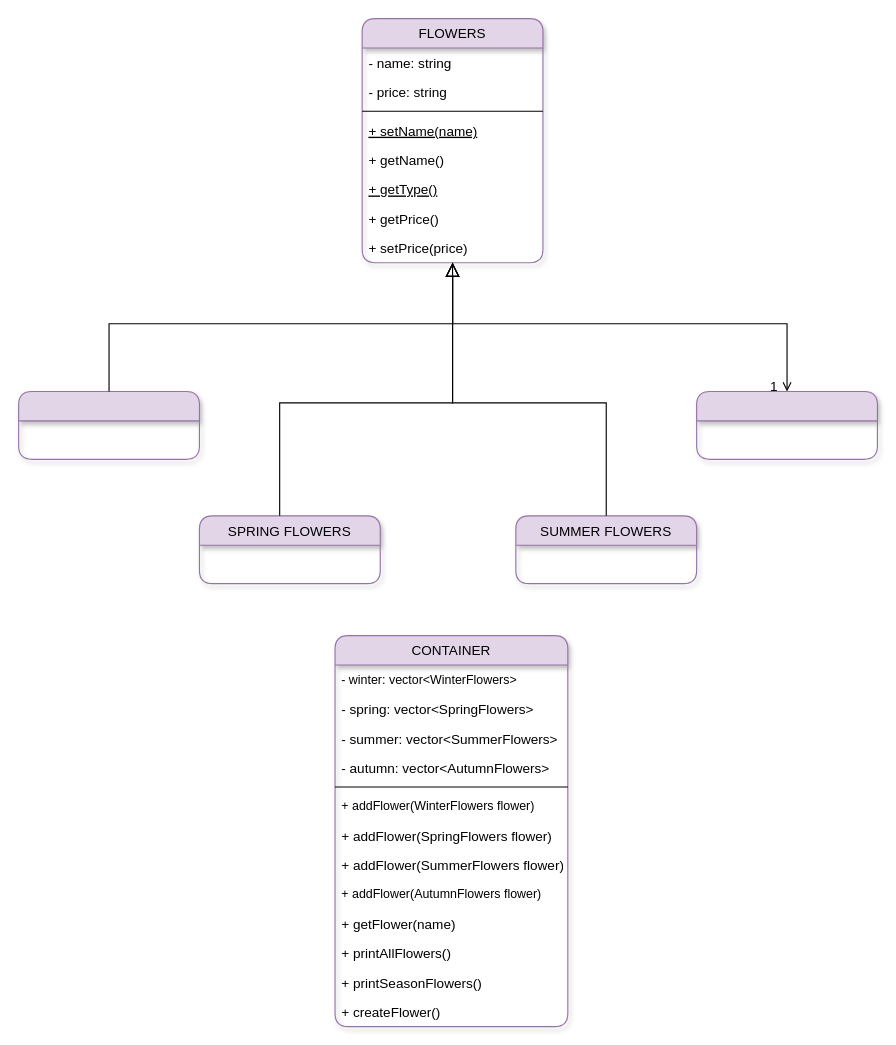
The diagram is 896 pixels wide and 1045 high, and some of its shapes have lost their labels. The shapes that lost their labels are listed below. From the top down, each one's centre as x and y in pixels, then its label:
At [109,426]: "WINTER FLOWERS".
At [787,426]: "AUTUMN FLOWERS".
